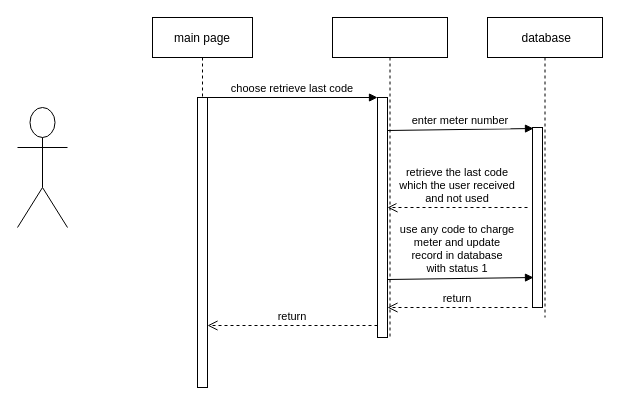
Some shapes in this 620 by 405 pixel diagram are drawn without their labels. Here are the shapes that lost their labels. From the top down, the centre of each, then its label:
At (42,167): "user".
At (390,177): "retrieve code page".
